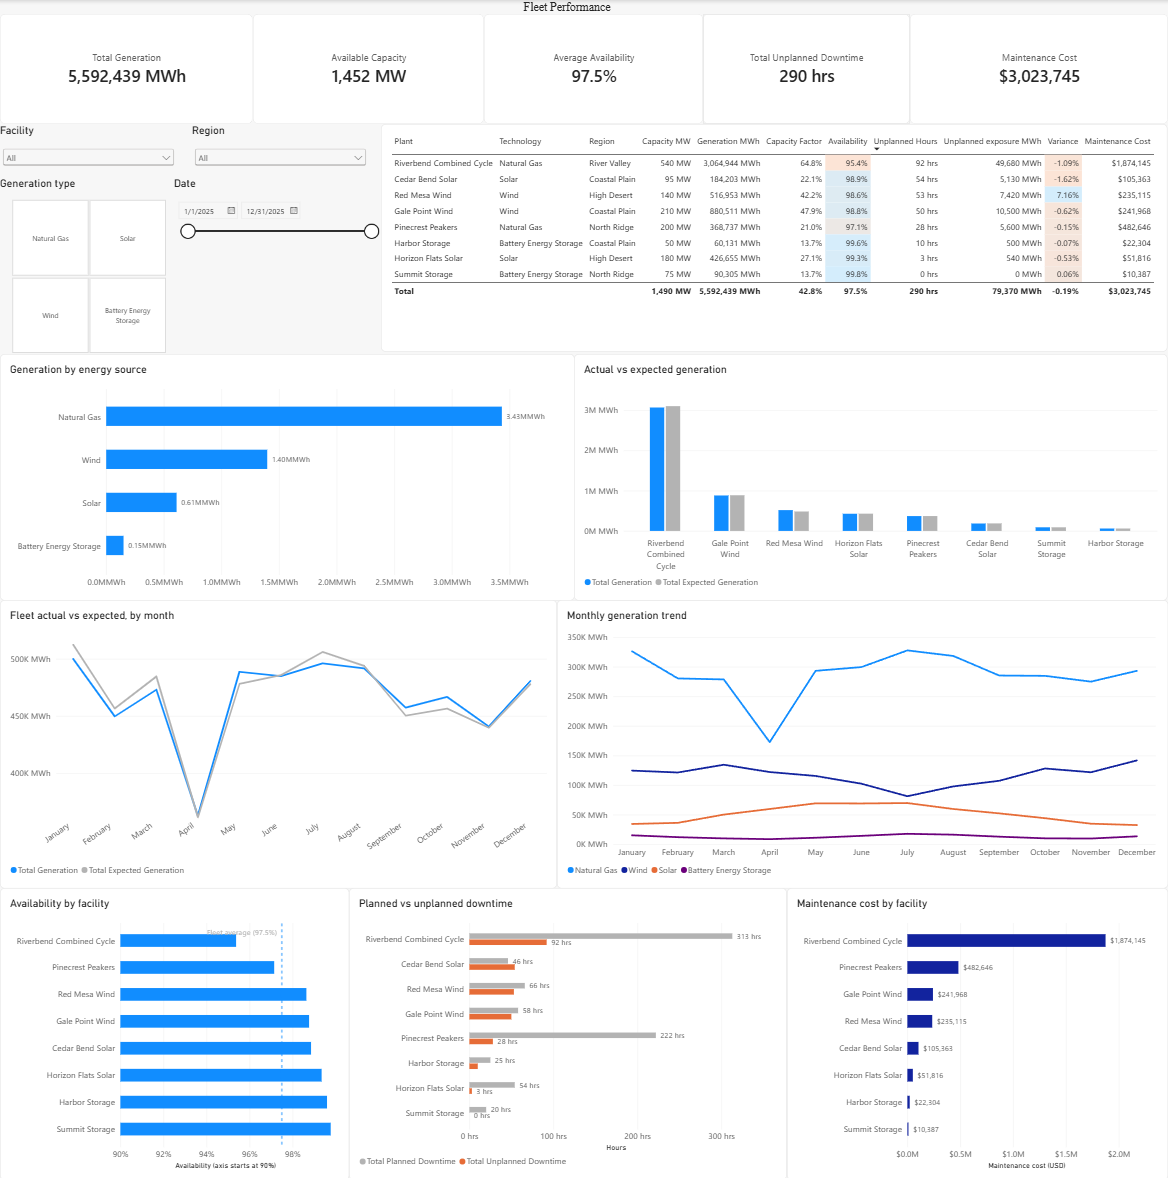

Layout of this report page (visuals, bound fields, positions):
{"tool":"powerbi","page":{"name":"Fleet Performance","canvas":[1980,2000],"ordinal":0},"visuals":[{"type":"textbox","title":"Fleet Performance","box":[878,0,166.1,47.5],"z":0},{"type":"cardVisual","fields":{"Data":["FactOperations.Total Unplanned Downtime"]},"box":[1191.5,23.7,350.8,186.4],"z":1000},{"type":"cardVisual","fields":{"Data":["FactOperations.Maintenance Cost Card"]},"box":[1542.4,23.7,437.3,186.4],"z":2000},{"type":"cardVisual","fields":{"Data":["FactOperations.Total Generation"]},"box":[0,23.7,428.8,186.4],"z":3000},{"type":"cardVisual","fields":{"Data":["FactOperations.Available Capacity Card"]},"box":[428.8,23.7,391.5,186.4],"z":4000},{"type":"cardVisual","fields":{"Data":["FactOperations.Average Availability"]},"box":[820.3,23.7,371.2,186.4],"z":5000},{"type":"clusteredBarChart","title":"Generation by energy source","fields":{"Category":["DimGenerationType.Generation_Type"],"Y":["FactOperations.Total Generation"]},"box":[0,599.5,973.6,417.9],"z":6000},{"type":"slicer","title":"Actual vs expected generation","fields":{"Values":["DimDate.Date"]},"box":[295.4,299.7,350.8,296.6],"z":7000},{"type":"lineChart","title":"Monthly generation trend","fields":{"Category":["DimDate.Month_Name"],"Series":["DimGenerationType.Generation_Type"],"Y":["FactOperations.Total Generation"]},"box":[944.1,1017.3,1035.9,489],"z":8000},{"type":"lineChart","title":"Fleet actual vs expected, by month","fields":{"Category":["DimDate.Month_Name"],"Y":["FactOperations.Total Generation","FactOperations.Total Expected Generation"]},"box":[0,1017.3,944.1,489],"z":9000},{"type":"clusteredBarChart","title":"Availability by facility","fields":{"Category":["DimPlant.Plant_Name"],"Y":["FactOperations.Average Availability"]},"box":[0,1505.1,591.5,494.9],"z":10000},{"type":"clusteredBarChart","title":"Planned vs unplanned downtime","fields":{"Category":["DimPlant.Plant_Name"],"Y":["FactOperations.Total Planned Downtime","FactOperations.Total Unplanned Downtime"]},"box":[591.5,1505.1,742.4,494.9],"z":11000},{"type":"clusteredBarChart","title":"Maintenance cost by facility","fields":{"Category":["DimPlant.Plant_Name"],"Y":["FactOperations.Total Maintenance Cost"]},"box":[1333.9,1505.1,645.8,494.9],"z":12000},{"type":"tableEx","fields":{"Values":["DimPlant.Plant_Name","DimPlant.Generation_Type","DimPlant.Region","FactOperations.Total Capacity","FactOperations.Total Generation","FactOperations.Capacity Factor","FactOperations.Average Availability","FactOperations.Total Unplanned Downtime","FactOperations.Unplanned Capacity MWh","FactOperations.Generation Variance %","FactOperations.Total Maintenance Cost"]},"box":[645.4,277.9,1333.5,321.6],"z":13000},{"type":"slicer","title":"Facility","fields":{"Values":["DimPlant.Plant_Name"]},"box":[0,210.2,300,89.8],"z":14000},{"type":"slicer","title":"Generation type","fields":{"Values":["DimGenerationType.Generation_Type"]},"box":[0,300,300,300],"z":15000},{"type":"slicer","fields":{"Values":["DimPlant.Region"]},"box":[325.4,210.2,300,89.8],"z":16000},{"type":"clusteredColumnChart","title":"Actual vs expected generation","fields":{"Category":["DimPlant.Plant_Name"],"Y":["FactOperations.Total Generation","FactOperations.Total Expected Generation"]},"box":[973.6,599.5,1006.4,417.9],"z":17000}]}

Visuals, with their boxes in screenshot pixels (x1, y1, x2, y2), scaled from the page's 1980x2000 canvas onto the 1168x1178 screenshot:
"Fleet Performance" textbox: pyautogui.locateOnScreen(518, 0, 616, 28)
cardVisual - FactOperations.Total Unplanned Downtime: pyautogui.locateOnScreen(703, 14, 910, 124)
cardVisual - FactOperations.Maintenance Cost Card: pyautogui.locateOnScreen(910, 14, 1167, 124)
cardVisual - FactOperations.Total Generation: pyautogui.locateOnScreen(0, 14, 253, 124)
cardVisual - FactOperations.Available Capacity Card: pyautogui.locateOnScreen(253, 14, 484, 124)
cardVisual - FactOperations.Average Availability: pyautogui.locateOnScreen(484, 14, 703, 124)
"Generation by energy source" clusteredBarChart: pyautogui.locateOnScreen(0, 353, 574, 599)
"Actual vs expected generation" slicer: pyautogui.locateOnScreen(174, 177, 381, 351)
"Monthly generation trend" lineChart: pyautogui.locateOnScreen(557, 599, 1167, 887)
"Fleet actual vs expected, by month" lineChart: pyautogui.locateOnScreen(0, 599, 557, 887)
"Availability by facility" clusteredBarChart: pyautogui.locateOnScreen(0, 887, 349, 1177)
"Planned vs unplanned downtime" clusteredBarChart: pyautogui.locateOnScreen(349, 887, 787, 1177)
"Maintenance cost by facility" clusteredBarChart: pyautogui.locateOnScreen(787, 887, 1167, 1177)
tableEx - DimPlant.Plant_Name x DimPlant.Generation_Type: pyautogui.locateOnScreen(381, 164, 1167, 353)
"Facility" slicer: pyautogui.locateOnScreen(0, 124, 177, 177)
"Generation type" slicer: pyautogui.locateOnScreen(0, 177, 177, 353)
slicer - DimPlant.Region: pyautogui.locateOnScreen(192, 124, 369, 177)
"Actual vs expected generation" clusteredColumnChart: pyautogui.locateOnScreen(574, 353, 1167, 599)
